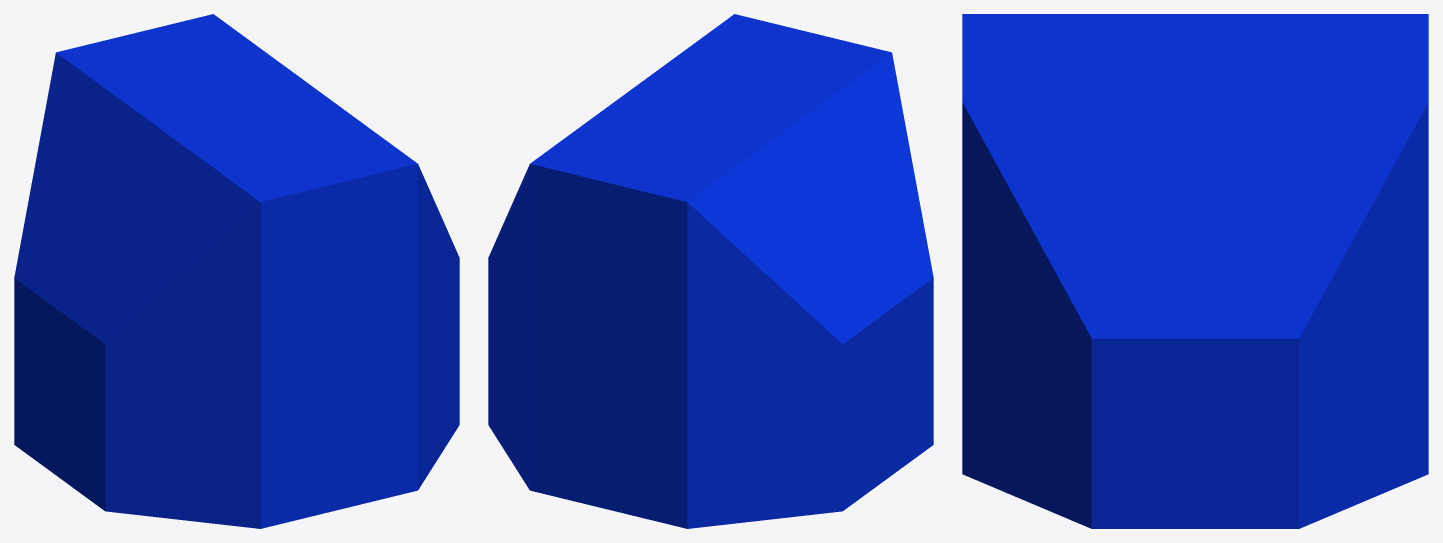
3 renders of one model, left to right at view 1: azimuth 30°, elevation 25°; view 2: azimuth 150°, elevation 25°; view 3: azimuth 270°, elevation 25°, orthographic. The views are drawn at different scales.
Parts seen in each view (by area): view 1: Cube; view 2: Cube; view 3: Cube.
Part boxes in pixels (x1=…): Cube: x1=14, y1=14, x2=459, y2=528; Cube: x1=488, y1=14, x2=933, y2=528; Cube: x1=962, y1=14, x2=1428, y2=528.
Bounding box in the file's own units: 2 × 2 × 1.76.
